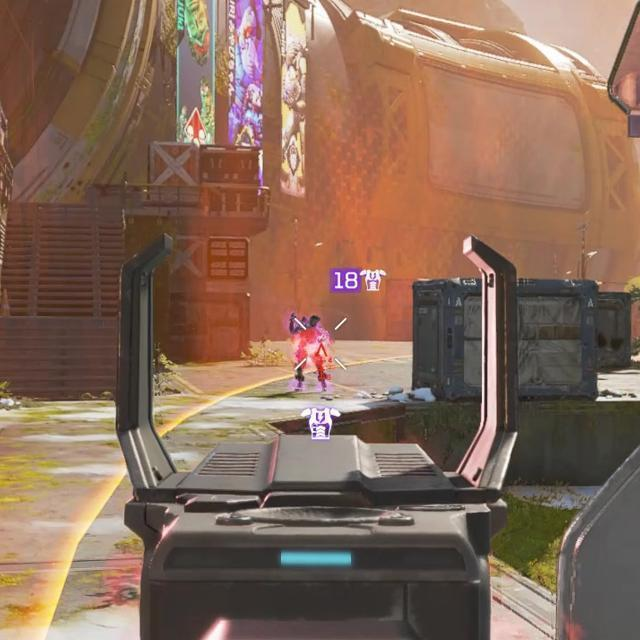avatar: (291, 312, 330, 394)
object: (292, 328, 334, 373)
